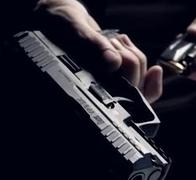gun: (1, 1, 196, 180)
